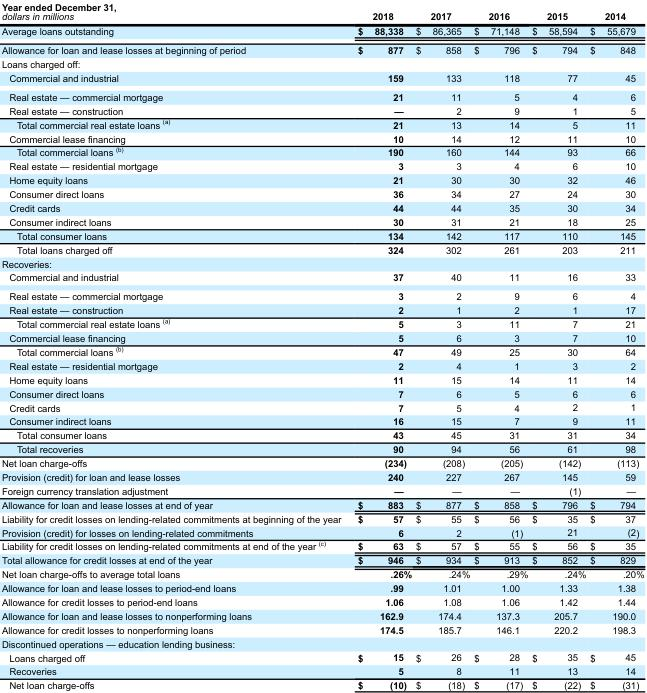table: (0, 1, 643, 690)
table column: (0, 1, 348, 690), (348, 1, 413, 690), (413, 1, 471, 690), (471, 1, 529, 690), (529, 1, 587, 690), (587, 1, 643, 690)
table column header: (0, 1, 643, 23)
table projected row header: (0, 56, 643, 70), (0, 256, 643, 270), (0, 636, 643, 650)
table row: (0, 1, 643, 23), (0, 23, 643, 40), (0, 70, 643, 87), (0, 286, 643, 303), (0, 40, 643, 56), (0, 87, 643, 103), (0, 270, 643, 286), (0, 116, 643, 131), (0, 144, 643, 159), (0, 343, 643, 358), (0, 538, 643, 553), (0, 56, 643, 70), (0, 159, 643, 173), (0, 186, 643, 200), (0, 200, 643, 214), (0, 214, 643, 228), (0, 228, 643, 242), (0, 242, 643, 256), (0, 256, 643, 270), (0, 316, 643, 330), (0, 358, 643, 372), (0, 372, 643, 386), (0, 386, 643, 400), (0, 400, 643, 414), (0, 414, 643, 428), (0, 441, 643, 455), (0, 455, 643, 469), (0, 469, 643, 483), (0, 483, 643, 497), (0, 497, 643, 511), (0, 511, 643, 525), (0, 566, 643, 580), (0, 580, 643, 594), (0, 594, 643, 608), (0, 608, 643, 622), (0, 622, 643, 636), (0, 636, 643, 650), (0, 650, 643, 664), (0, 664, 643, 678), (0, 103, 643, 116), (0, 131, 643, 144), (0, 173, 643, 186), (0, 303, 643, 316), (0, 330, 643, 343), (0, 428, 643, 441), (0, 525, 643, 538), (0, 553, 643, 566), (0, 678, 643, 690)
